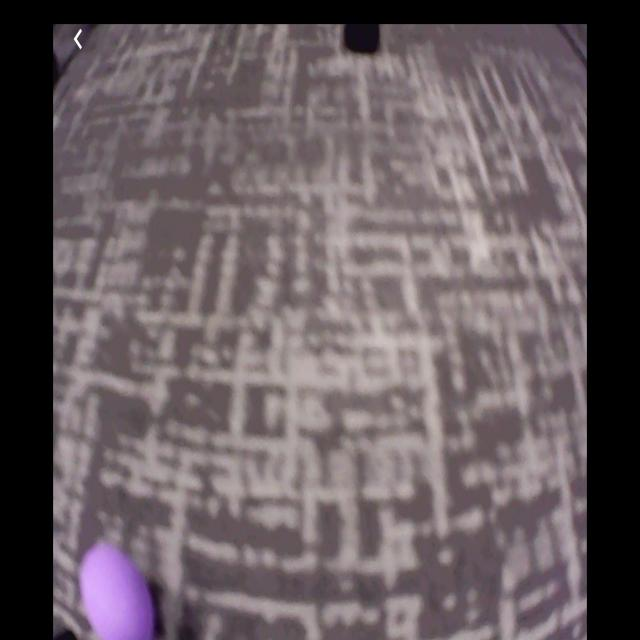ball: (81, 544, 152, 640)
